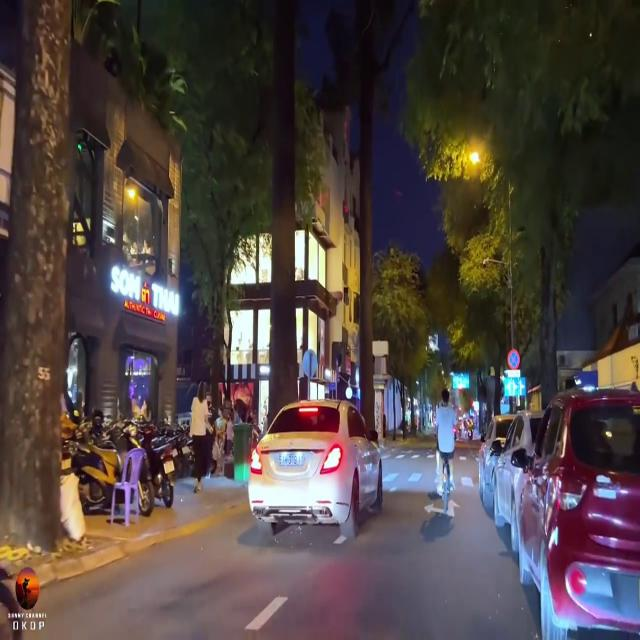bien_trang: (273, 452, 310, 470)
